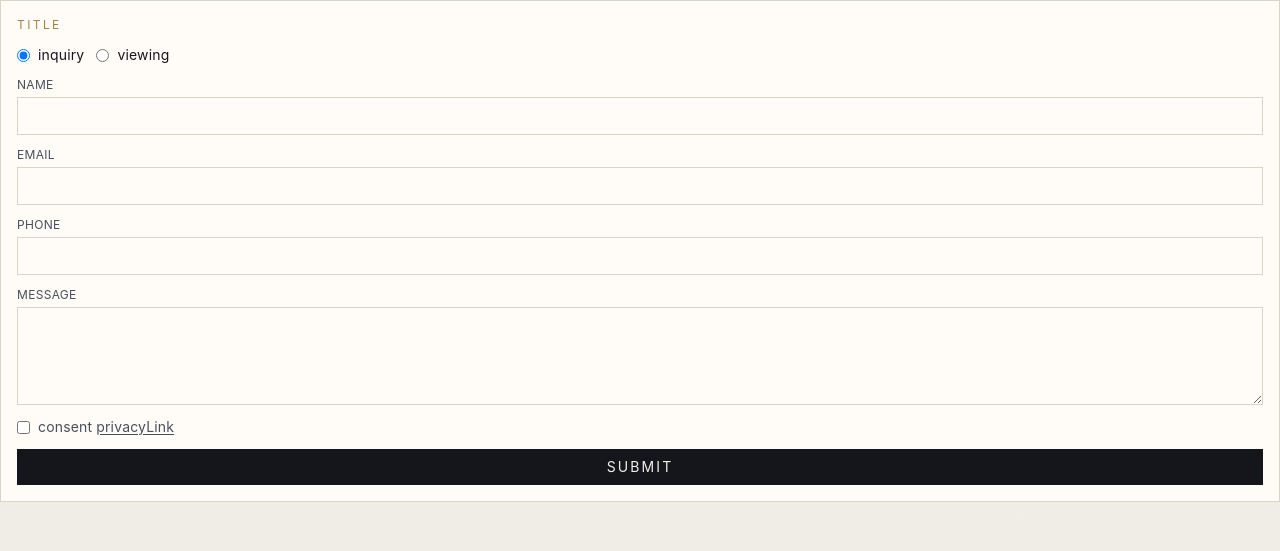
InquiryForm › shows error when the API fails
Step 1. Type "Ada" into the field with test id "inquiry-name" → (640, 116), box [17,97,1263,135]
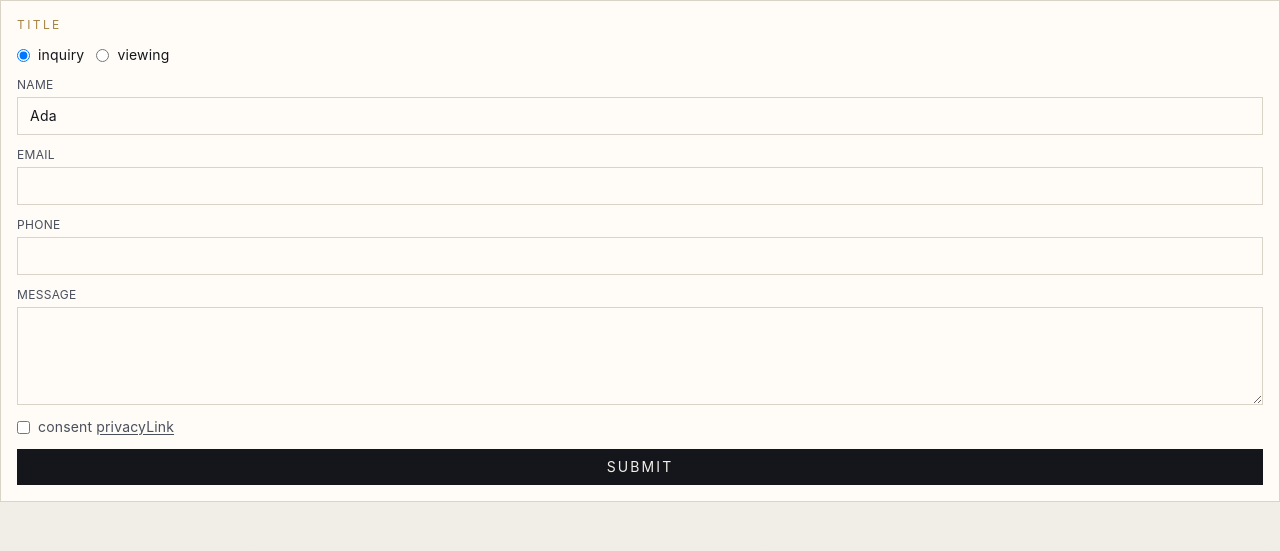
Step 2. Type "ada@example.com" into the field with test id "inquiry-email" → (640, 186), box [17,167,1263,205]
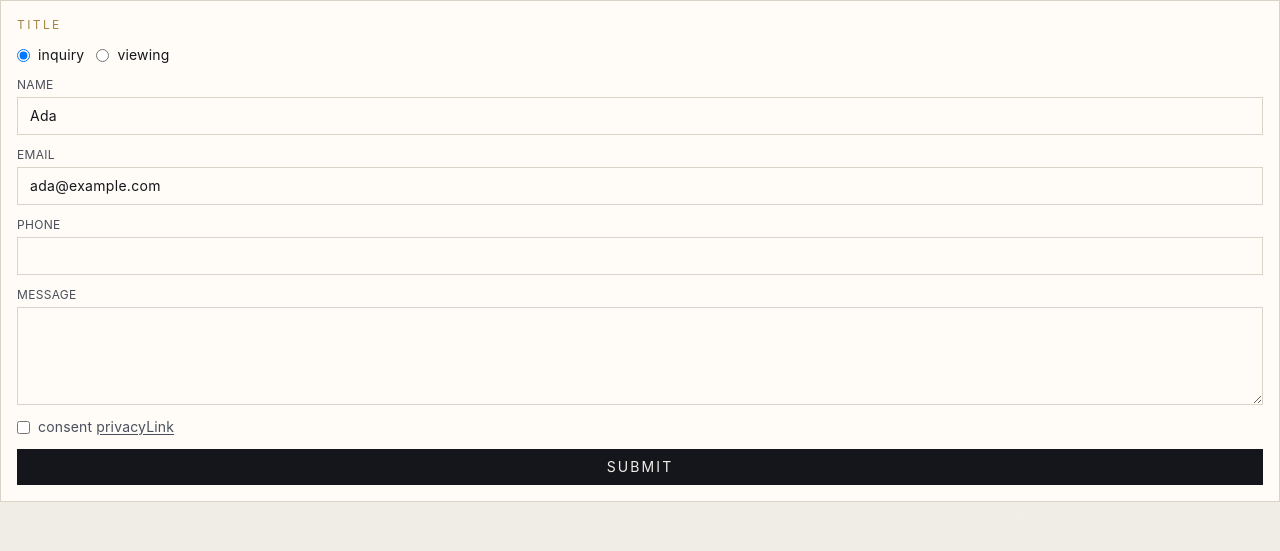
Step 3. Type "+359111" into the field with test id "inquiry-phone" → (640, 256), box [17,237,1263,275]
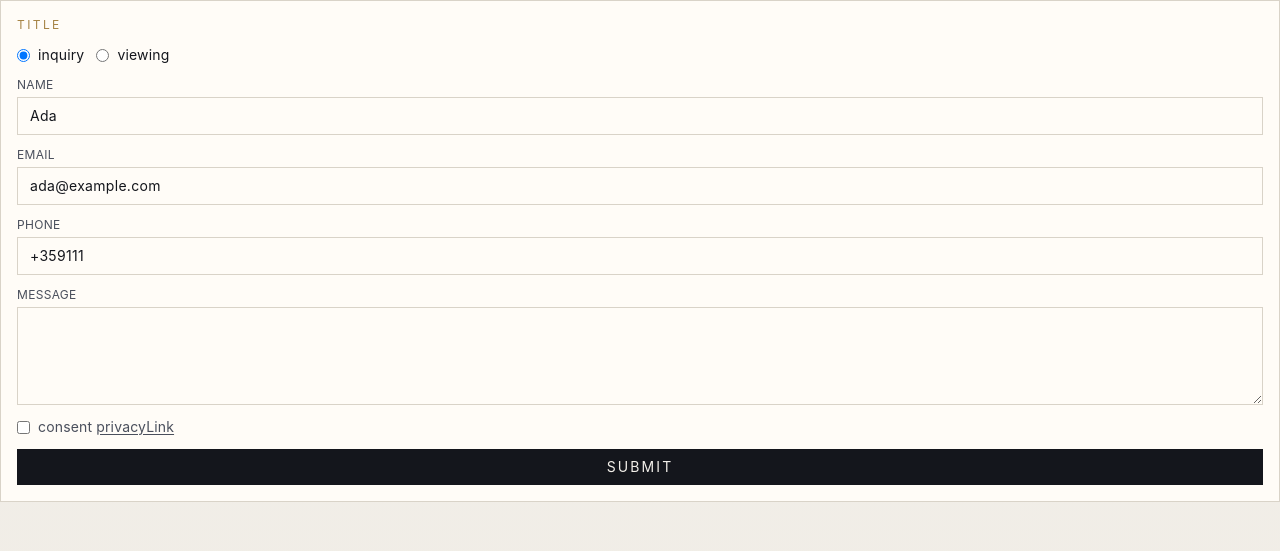
Step 4. Type "Please call me" into the text box with test id "inquiry-message" → (640, 356), box [17,307,1263,405]
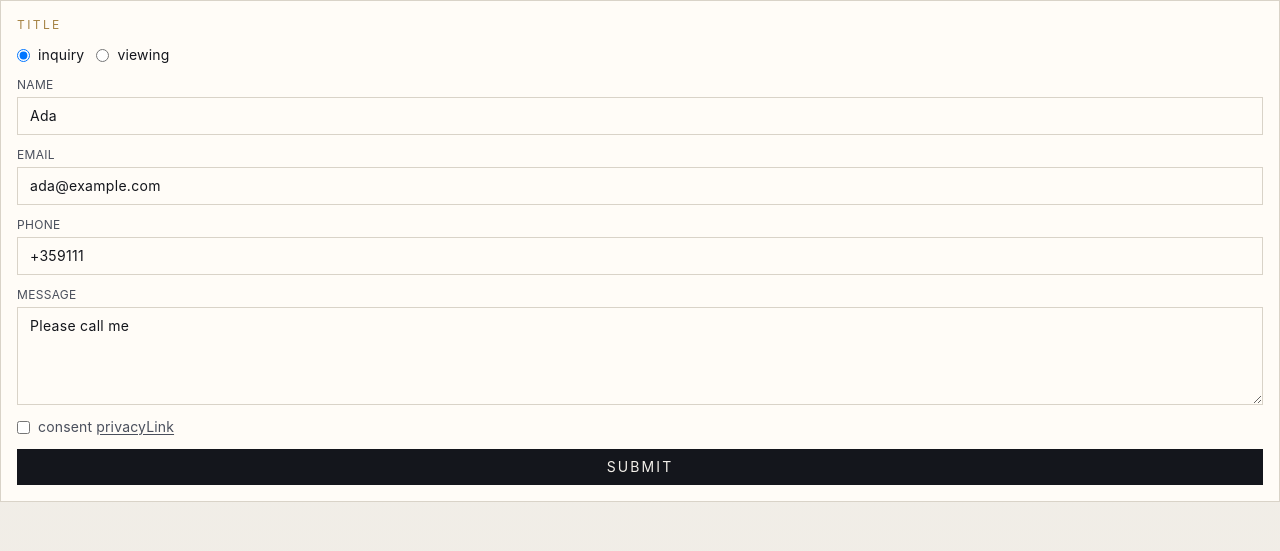
Step 5. Click the checkbox with test id "inquiry-consent" → (24, 428), box [17,421,30,434]
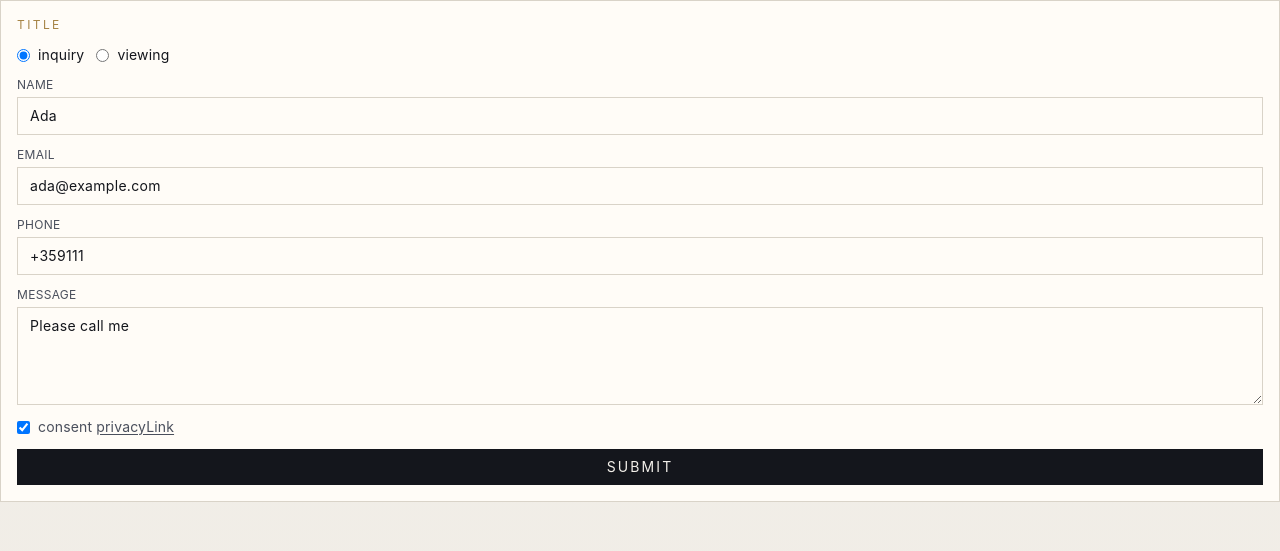
Step 6. Submit the form with test id "inquiry-form"
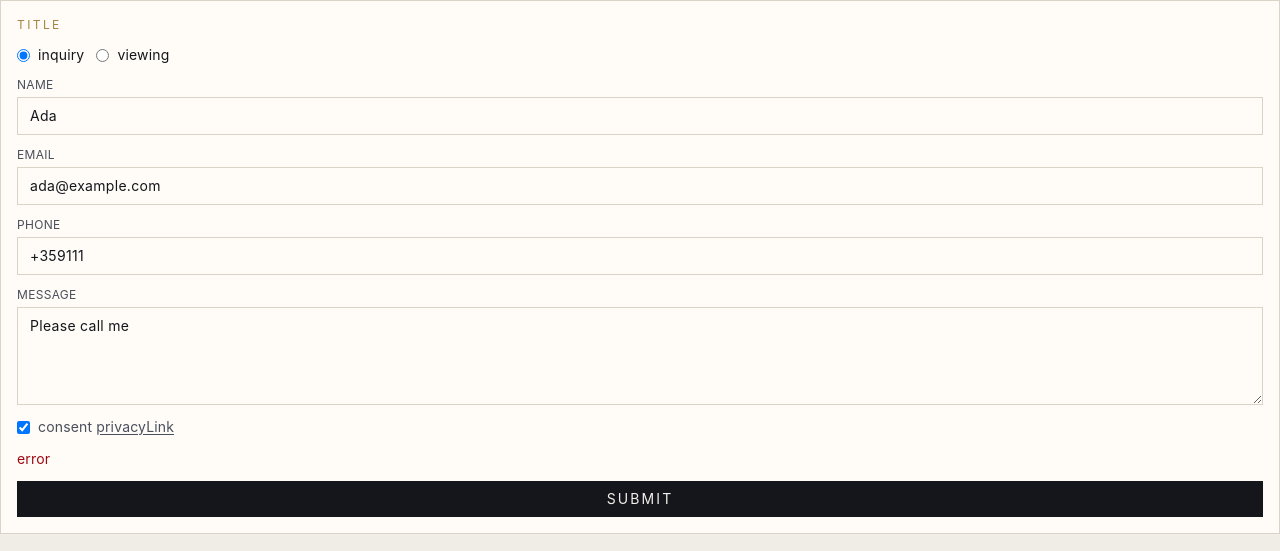
Result: the text with test id "inquiry-error" reads "error" at [17,450,50,467]
